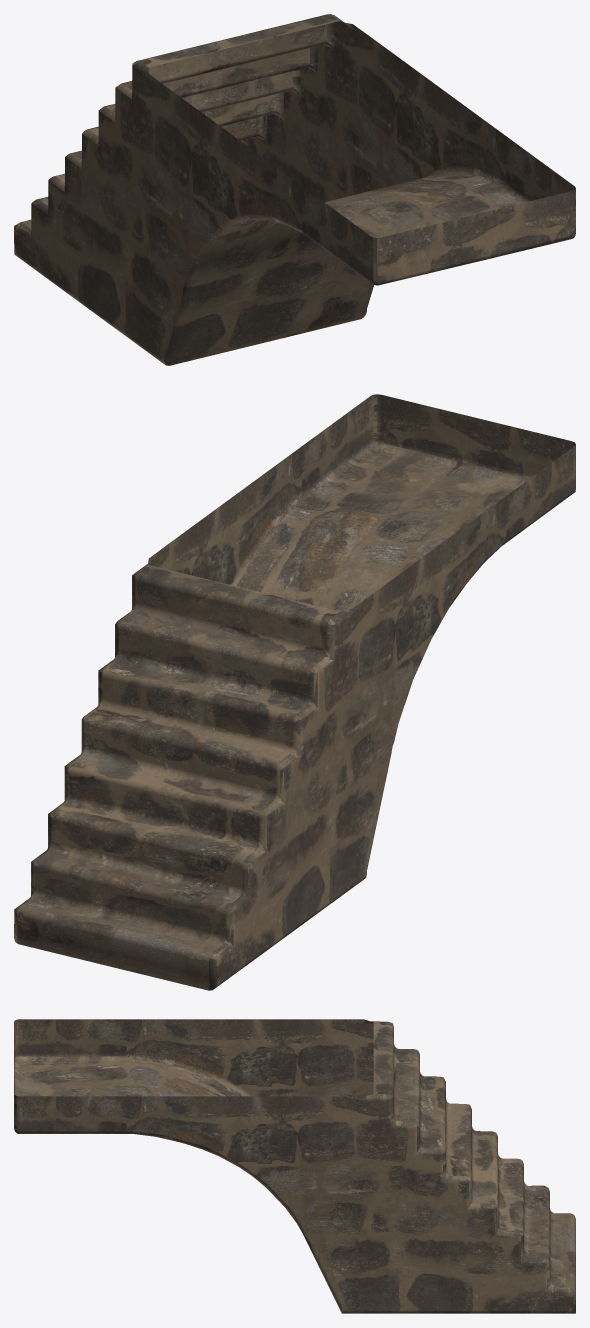
Rendered from SM_Stairs-StoneTall-Curved2.fbx.
3 renders of one model, top to bottom at view 1: azimuth 30°, elevation 25°; view 2: azimuth 150°, elevation 25°; view 3: azimuth 270°, elevation 25°, orthographic. The views are drawn at different scales.
Parts seen in each view (by area): view 1: SM_Stairs-StoneTall-Curved2_LOD0; view 2: SM_Stairs-StoneTall-Curved2_LOD0; view 3: SM_Stairs-StoneTall-Curved2_LOD0.
Part boxes in pixels (x1,y1,x2,y2): SM_Stairs-StoneTall-Curved2_LOD0: (14,14,575,365); SM_Stairs-StoneTall-Curved2_LOD0: (14,394,575,990); SM_Stairs-StoneTall-Curved2_LOD0: (14,1019,575,1313).
Size of the model in its own units: 151 by 465 by 200.
1 material, 1 textured.
